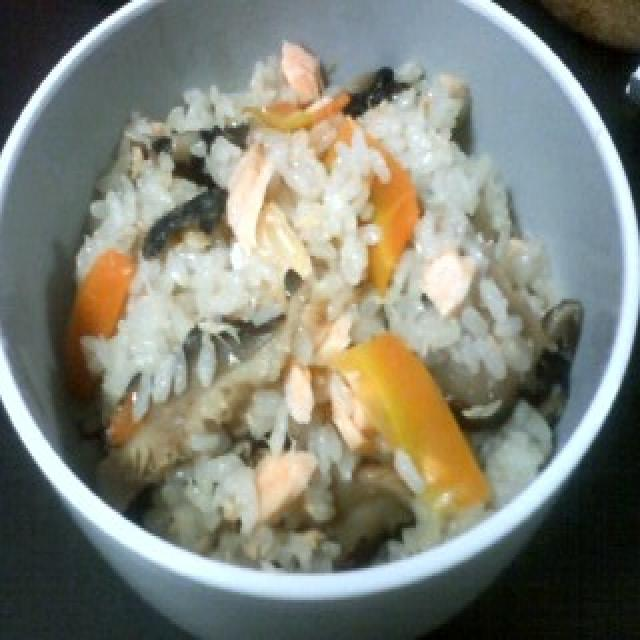米饭主食: (48, 53, 540, 555)
